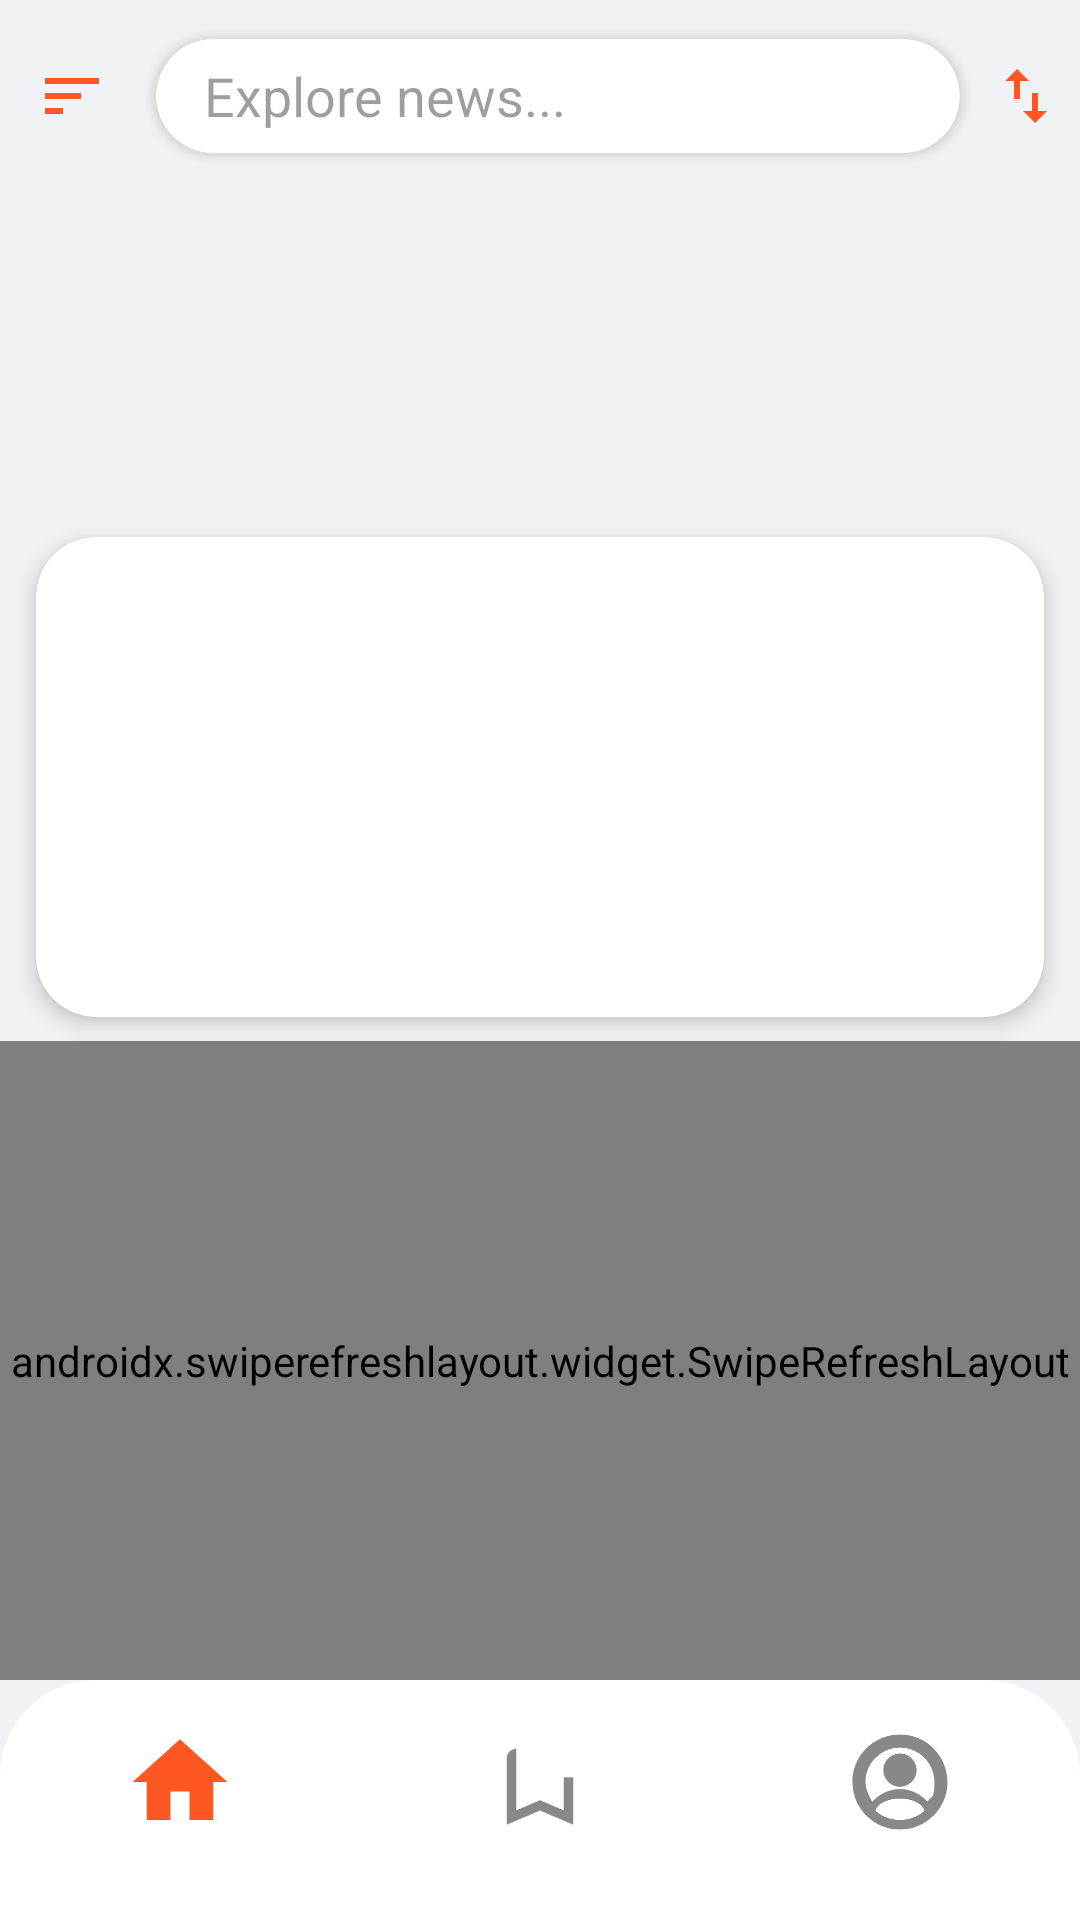

Point at icon controls on the screen. Image size 1080×1920, points as [x,y].
sort lines: [72,96]
sort up down: [1026,96]
